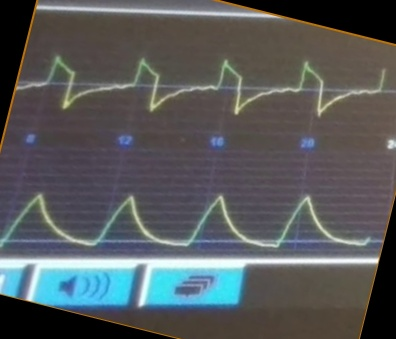Normal Flow: (19, 51, 387, 118)
Normal Volume: (1, 184, 373, 255)
